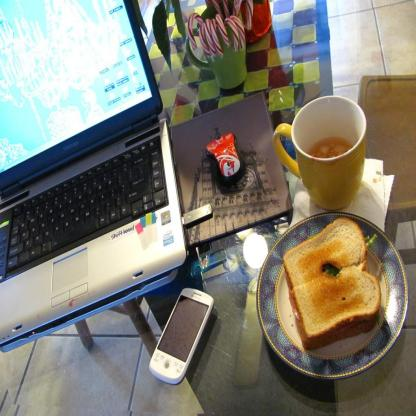board: (0, 0, 183, 352)
